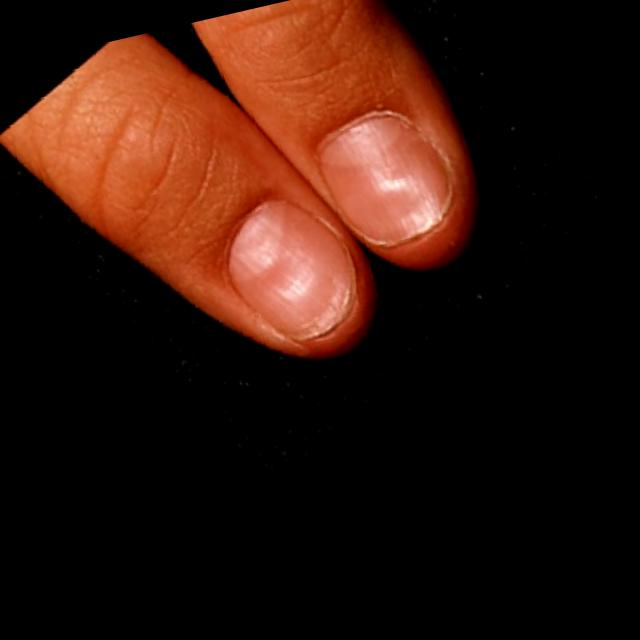Nail: (228, 198, 356, 340), (319, 115, 450, 243)
